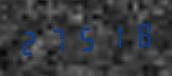eight: (126, 17, 152, 51)
five: (72, 20, 98, 55)
one: (99, 19, 125, 53)
seven: (45, 22, 71, 56)
two: (18, 24, 44, 58)
